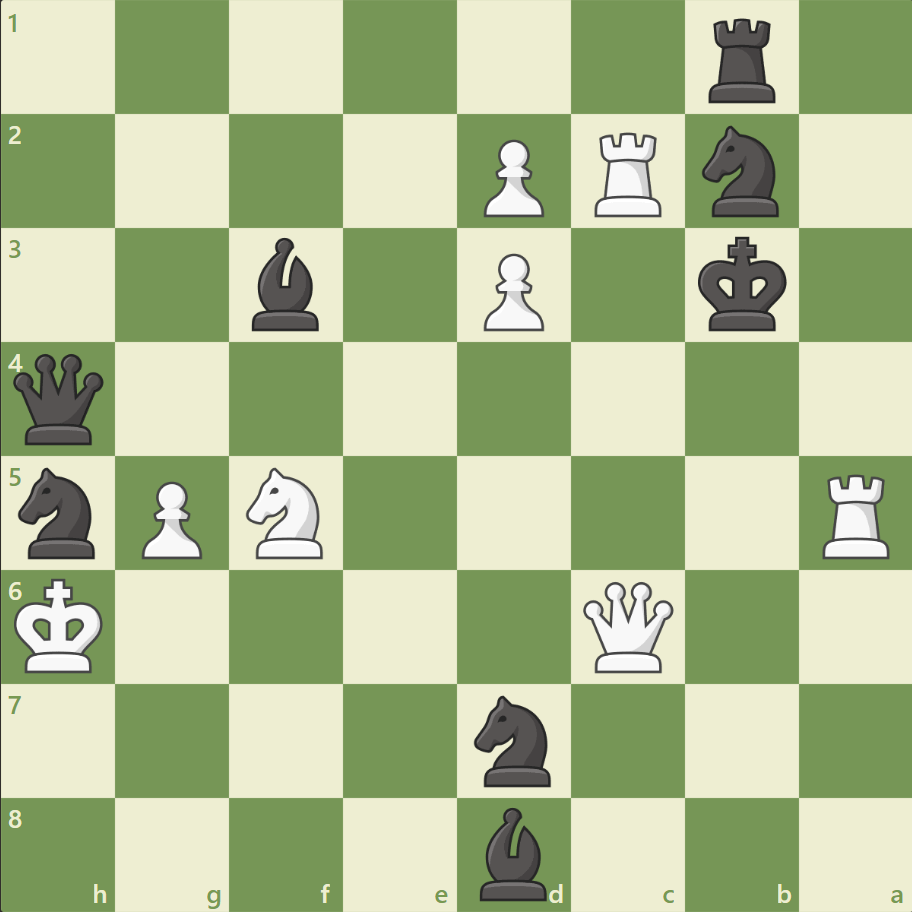K: (11, 571, 111, 679)
N: (238, 461, 335, 564)
P: (133, 473, 208, 564), (474, 246, 549, 337), (474, 132, 549, 223)
Q: (578, 576, 677, 676)
R: (814, 466, 897, 563), (587, 125, 670, 222)
b: (471, 801, 555, 904), (244, 233, 328, 336)
k: (692, 231, 792, 339)
n: (465, 688, 562, 791), (11, 461, 108, 564), (692, 121, 789, 223)
q: (10, 349, 109, 449)
r: (700, 12, 783, 109)
